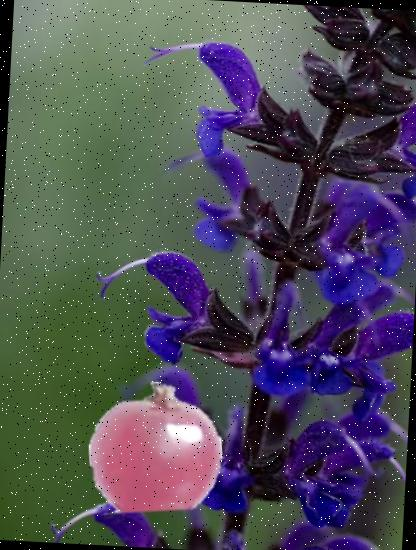Redcurrant: (86, 378, 226, 518)
